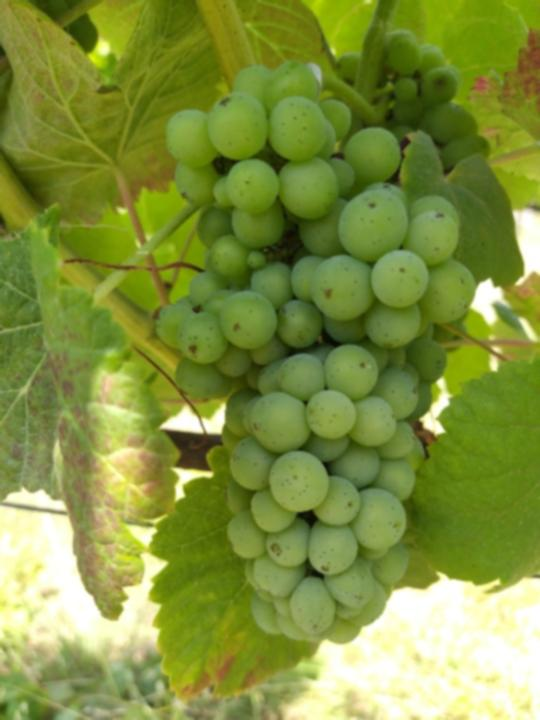grape: (149, 57, 477, 648)
